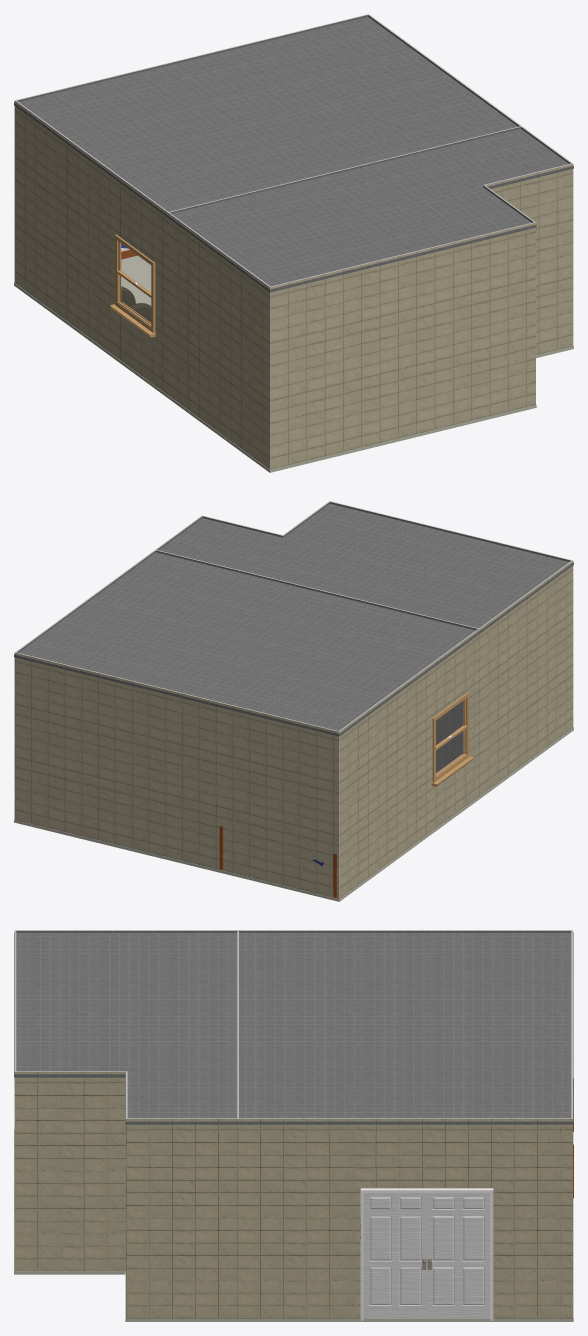
Rendered from ProcTHOR-Train-88.glb.
3 renders of one model, top to bottom at view 1: azimuth 30°, elevation 25°; view 2: azimuth 150°, elevation 25°; view 3: azimuth 270°, elevation 25°, orthographic. The views are drawn at different scales.
Parts seen in each view (by area): view 1: Ceiling#room|2|c, WallInside#wall|exterior|1.61|8.03|6.43|8.03, Ceiling#room|3|c, WallInside#wall|exterior|6.43|0.00|6.43|4.82, WallInside#wall|exterior|6.43|4.82|6.43|8.03, WallInside#wall|exterior|0.00|6.43|1.61|6.43, Window_Hung_48x44, Floor#room|2|f, Floor#room|3|f, WallInside#wall|2|0.00|0.00|6.43|0.00, WallInside#wall|3|0.00|4.82|6.43|4.82; view 2: WallInside#wall|exterior|0.00|0.00|6.43|0.00, Ceiling#room|2|c, Ceiling#room|3|c, WallInside#wall|exterior|6.43|0.00|6.43|4.82, WallInside#wall|exterior|6.43|4.82|6.43|8.03, WallInside#wall|2|0.00|4.82|6.43|4.82, Floor#room|2|f, Window_Hung_48x44, WallInside#wall|3|1.61|8.03|6.43|8.03; view 3: Ceiling#room|2|c, WallInside#wall|exterior|0.00|0.00|0.00|4.82, Ceiling#room|3|c, WallInside#wall|exterior|0.00|4.82|0.00|6.43, WallInside#wall|exterior|1.61|6.43|1.61|8.03, Doorway_Door_2b, Doorway_Door_2a, Floor#room|2|f, Doorway_Double_2, Floor#room|3|f, WallInside#wall|2|6.43|0.00|6.43|4.82, WallInside#wall|3|6.43|4.82|6.43|8.03.
Boxes of the visible parts, x1,y1,x2,y2 form: Ceiling#room|2|c: (14, 17, 517, 217); WallInside#wall|exterior|1.61|8.03|6.43|8.03: (270, 222, 535, 469); Ceiling#room|3|c: (166, 129, 573, 292); WallInside#wall|exterior|6.43|0.00|6.43|4.82: (14, 100, 167, 394); WallInside#wall|exterior|6.43|4.82|6.43|8.03: (167, 212, 270, 469); WallInside#wall|exterior|0.00|6.43|1.61|6.43: (485, 164, 573, 354); Window_Hung_48x44: (109, 234, 155, 337); Floor#room|2|f: (14, 255, 167, 396); Floor#room|3|f: (166, 346, 573, 472); WallInside#wall|2|0.00|0.00|6.43|0.00: (15, 14, 368, 101); WallInside#wall|3|0.00|4.82|6.43|4.82: (169, 126, 520, 213); WallInside#wall|exterior|0.00|0.00|6.43|0.00: (14, 652, 339, 898); Ceiling#room|2|c: (14, 552, 480, 736); Ceiling#room|3|c: (157, 503, 573, 632); WallInside#wall|exterior|6.43|0.00|6.43|4.82: (339, 629, 479, 898); WallInside#wall|exterior|6.43|4.82|6.43|8.03: (479, 560, 573, 795); WallInside#wall|2|0.00|4.82|6.43|4.82: (155, 550, 478, 772); Floor#room|2|f: (14, 796, 480, 901); Window_Hung_48x44: (431, 692, 473, 786); WallInside#wall|3|1.61|8.03|6.43|8.03: (330, 501, 571, 561); Ceiling#room|2|c: (236, 932, 573, 1124); WallInside#wall|exterior|0.00|0.00|0.00|4.82: (237, 1118, 572, 1318); Ceiling#room|3|c: (14, 932, 239, 1124); WallInside#wall|exterior|0.00|4.82|0.00|6.43: (126, 1118, 238, 1318); WallInside#wall|exterior|1.61|6.43|1.61|8.03: (14, 1071, 126, 1271); Doorway_Door_2b: (363, 1193, 427, 1318); Doorway_Door_2a: (427, 1193, 490, 1318); Floor#room|2|f: (236, 1132, 573, 1321); Doorway_Double_2: (361, 1188, 493, 1320); Floor#room|3|f: (14, 1129, 237, 1321); WallInside#wall|2|6.43|0.00|6.43|4.82: (237, 930, 572, 932); WallInside#wall|3|6.43|4.82|6.43|8.03: (16, 930, 237, 932).
Size of the model in its own units: 6.63 by 3.23 by 8.08.
Materials: 113 (60 with a texture image).
